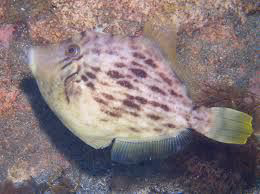kawahagi: (31, 3, 212, 184)
